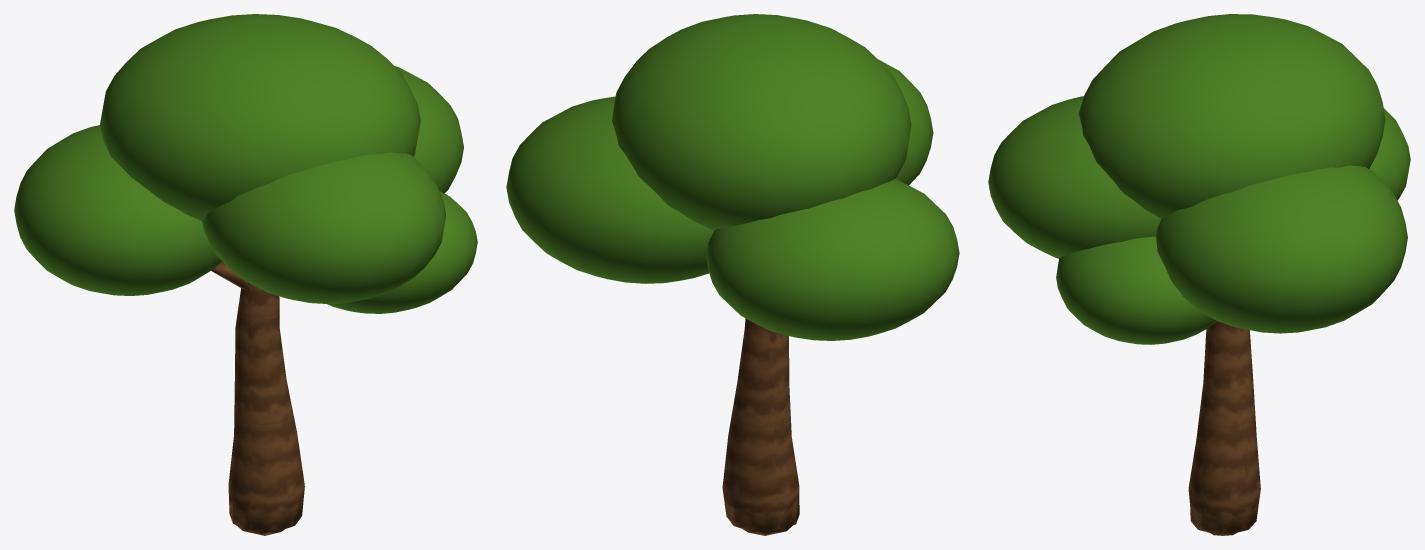
Rendered from prop_canopy_tree.glb.
3 renders of one model, left to right at view 1: azimuth 30°, elevation 25°; view 2: azimuth 150°, elevation 25°; view 3: azimuth 270°, elevation 25°, orthographic.
Parts seen in each view (by area): view 1: CanopyTrunk; view 2: CanopyTrunk; view 3: CanopyTrunk.
Boxes of the visible parts, x1,y1,x2,y2 form: CanopyTrunk: (14,14,477,535); CanopyTrunk: (506,14,959,535); CanopyTrunk: (988,14,1410,535).
Bounding box in the file's own units: 11.7 × 13.36 × 10.21.
2 materials, 2 textured.
